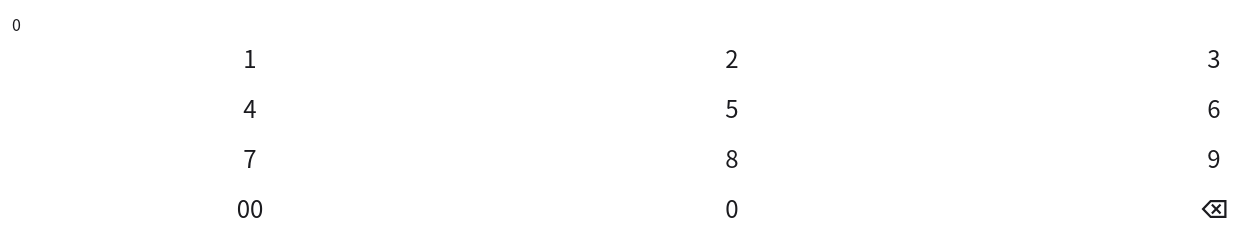
Test: 숫자 키패드 (U0-11) › 누르면 값이 바뀜
The image size is (1244, 251).
Later steps or results of the test are not shown.
Click the button "1" at (250, 58), box [12,36,488,80]
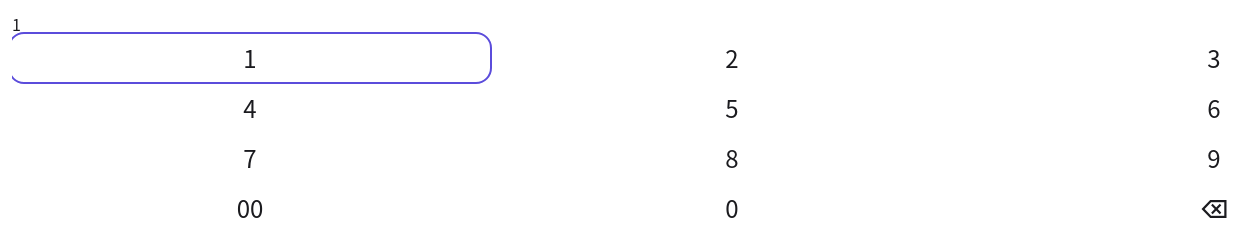
Click the button "5" at (732, 108), box [494,86,970,130]
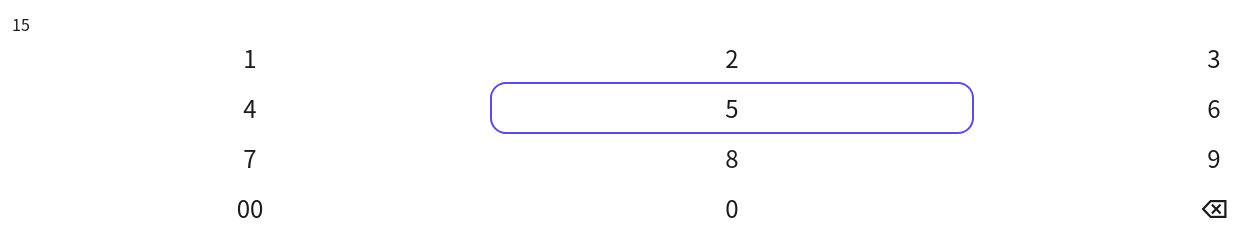
Click the button "4" at (250, 108), box [12,86,488,130]
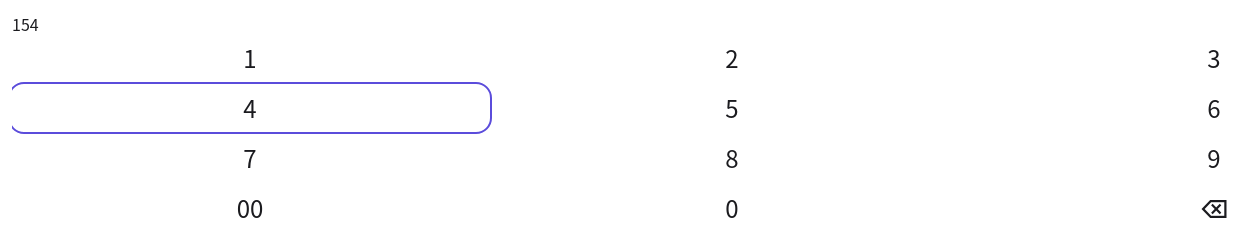
Click the button "00" at (250, 208), box [12,186,488,230]
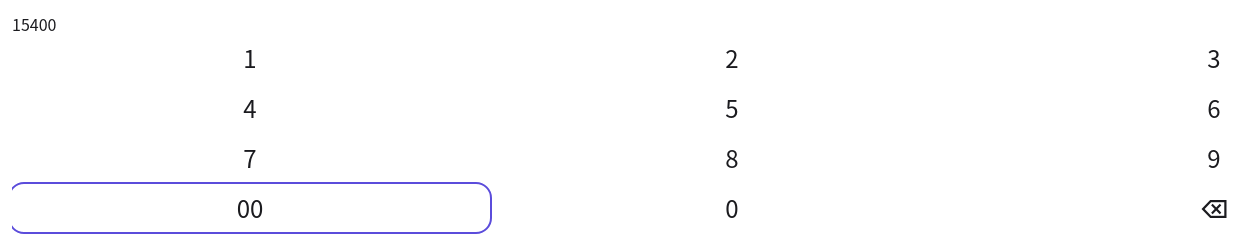
Click the button "0" at (732, 208), box [494,186,970,230]
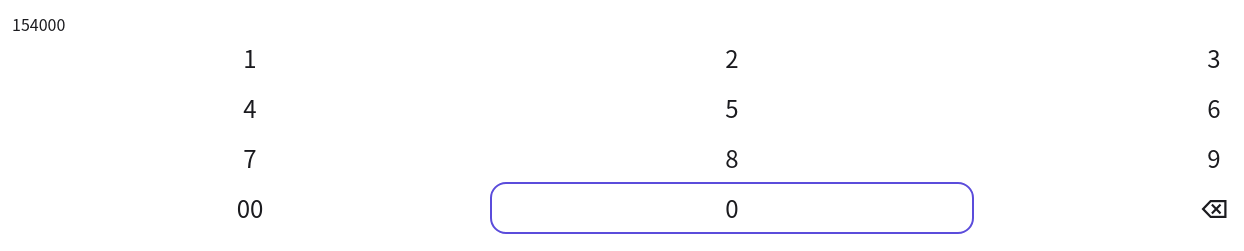
Expected: the text "154000" is shown, [12,12,65,36]
